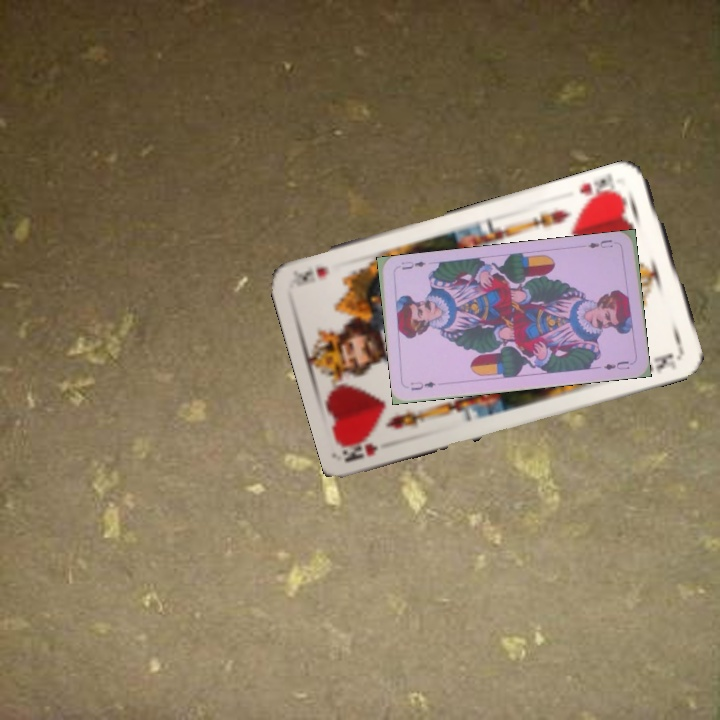EU: (584, 235, 615, 251), (406, 377, 437, 393)
HK: (576, 174, 623, 207), (342, 436, 380, 465)
